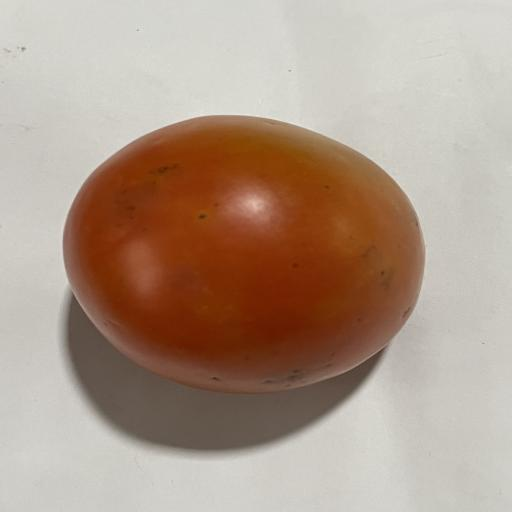unripe: (64, 116, 424, 393)
